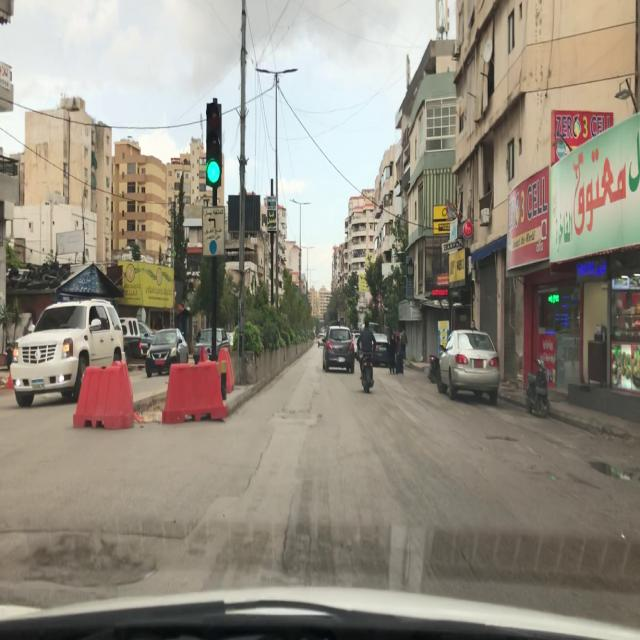Pothole: (481, 435, 523, 444)
